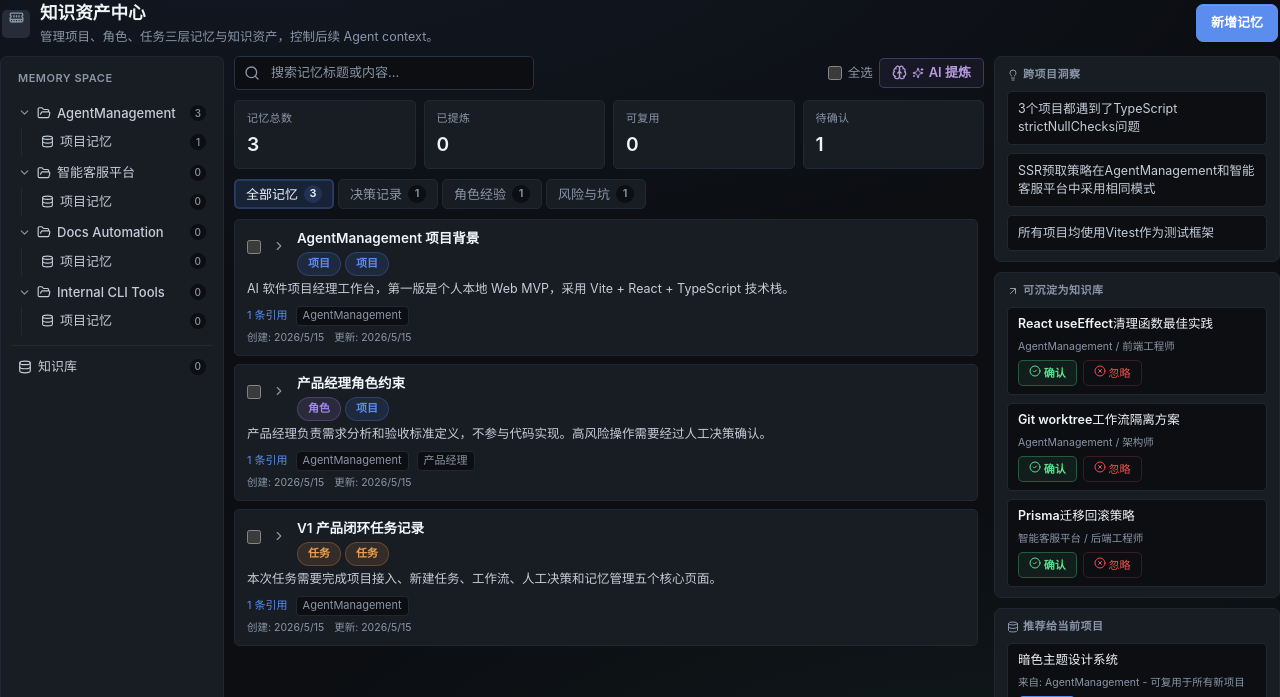
Test: MemoryManager › opens AI summary modal when AI 提炼 button is clicked
// Fire AI refine (clicking generates summary from all 3 fixture memories)
What coordinates should you click on to do the following:
click the button "AI 提炼"
I would click on:
 (931, 73)
Its box is top-left (879, 58), bottom-right (984, 88).
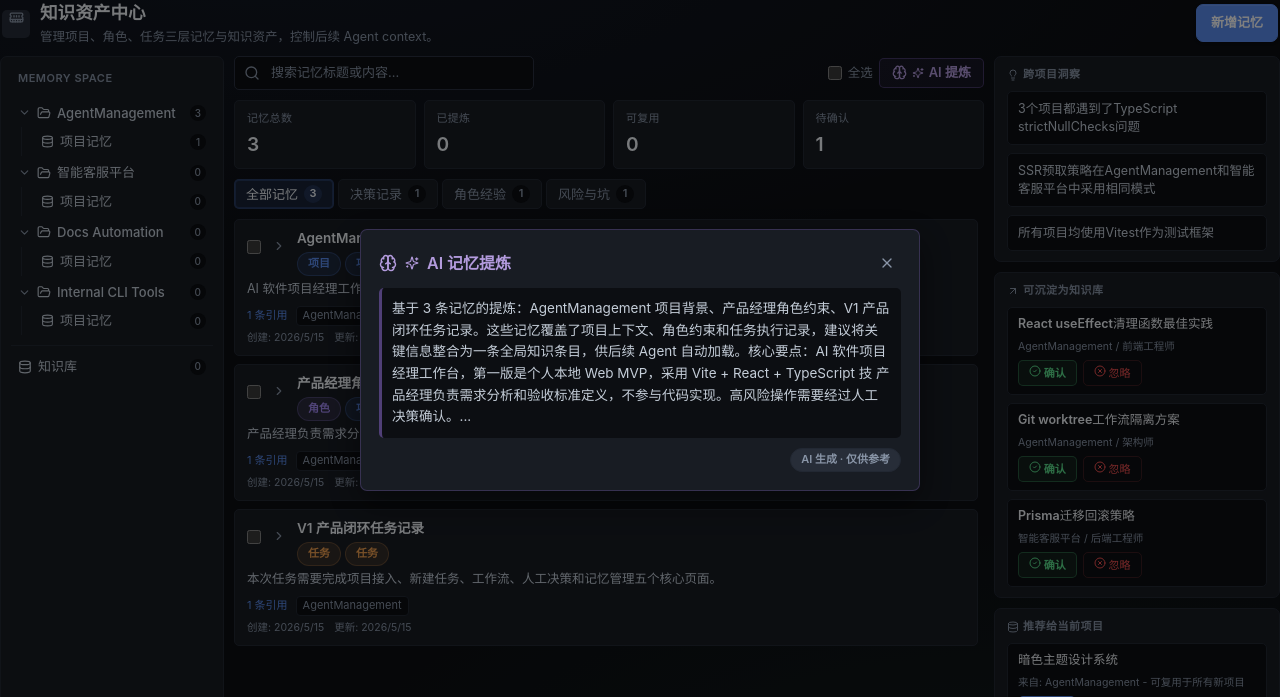
Expected: the heading "AI 记忆提炼" is shown, top-left (427, 252), bottom-right (511, 275)
